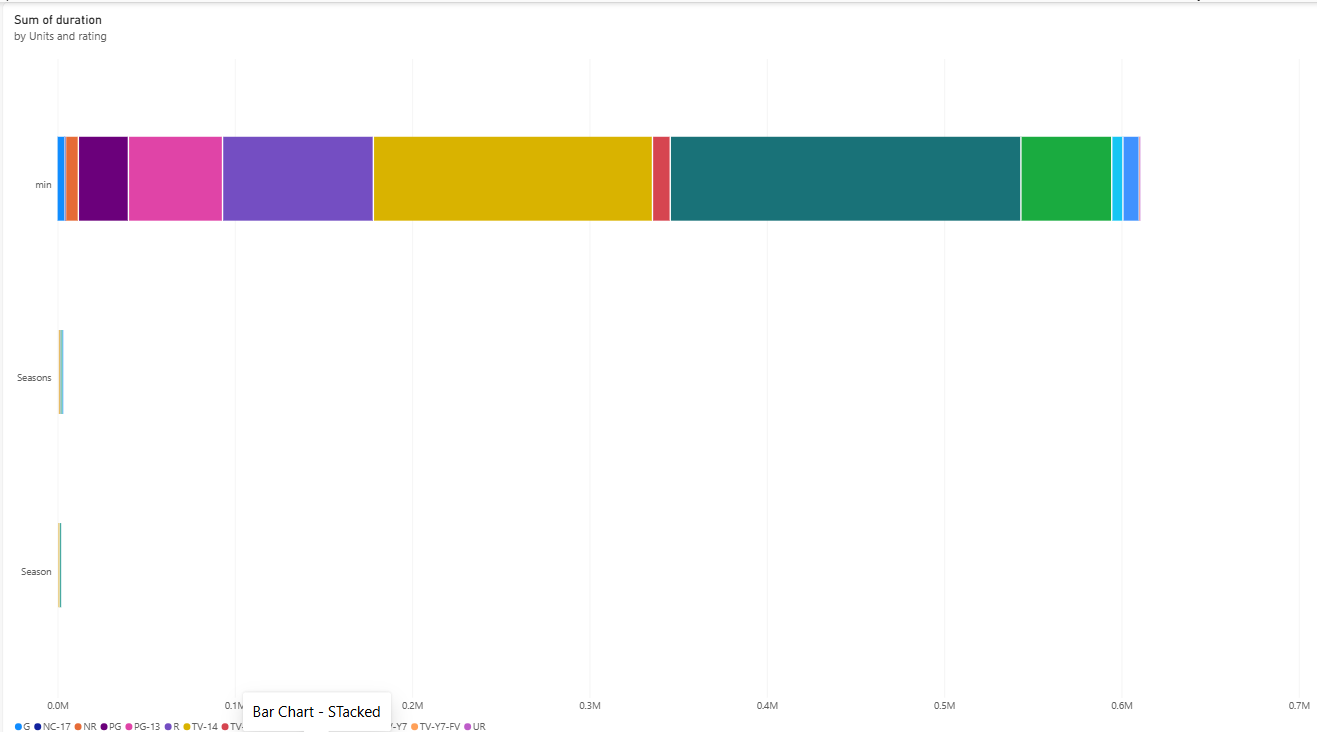

The page's visual inventory and layout, read from the dashboard file:
{"tool":"powerbi","page":{"name":"Bar Chart - STacked","canvas":[1920,1080],"ordinal":1},"visuals":[{"type":"barChart","fields":{"Category":["netflix_titles.Units"],"Series":["netflix_titles.rating"],"Y":["Sum(netflix_titles.duration)"]},"box":[10.3,0,1910.1,1080.6],"z":0}]}

Visuals, with their boxes in screenshot pixels (x1, y1, x2, y2), scaled from the page's 1920x1080 canvas onto the 1317x732 screenshot:
barChart - netflix_titles.Units x netflix_titles.rating: 7 0 1316 731
